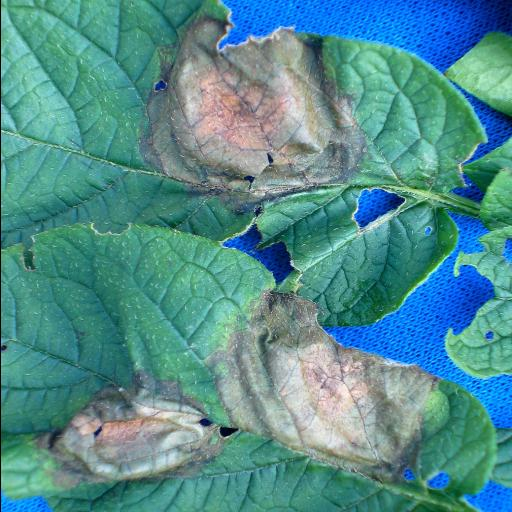disease_tomato: (1, 2, 485, 338), (0, 222, 497, 512)
